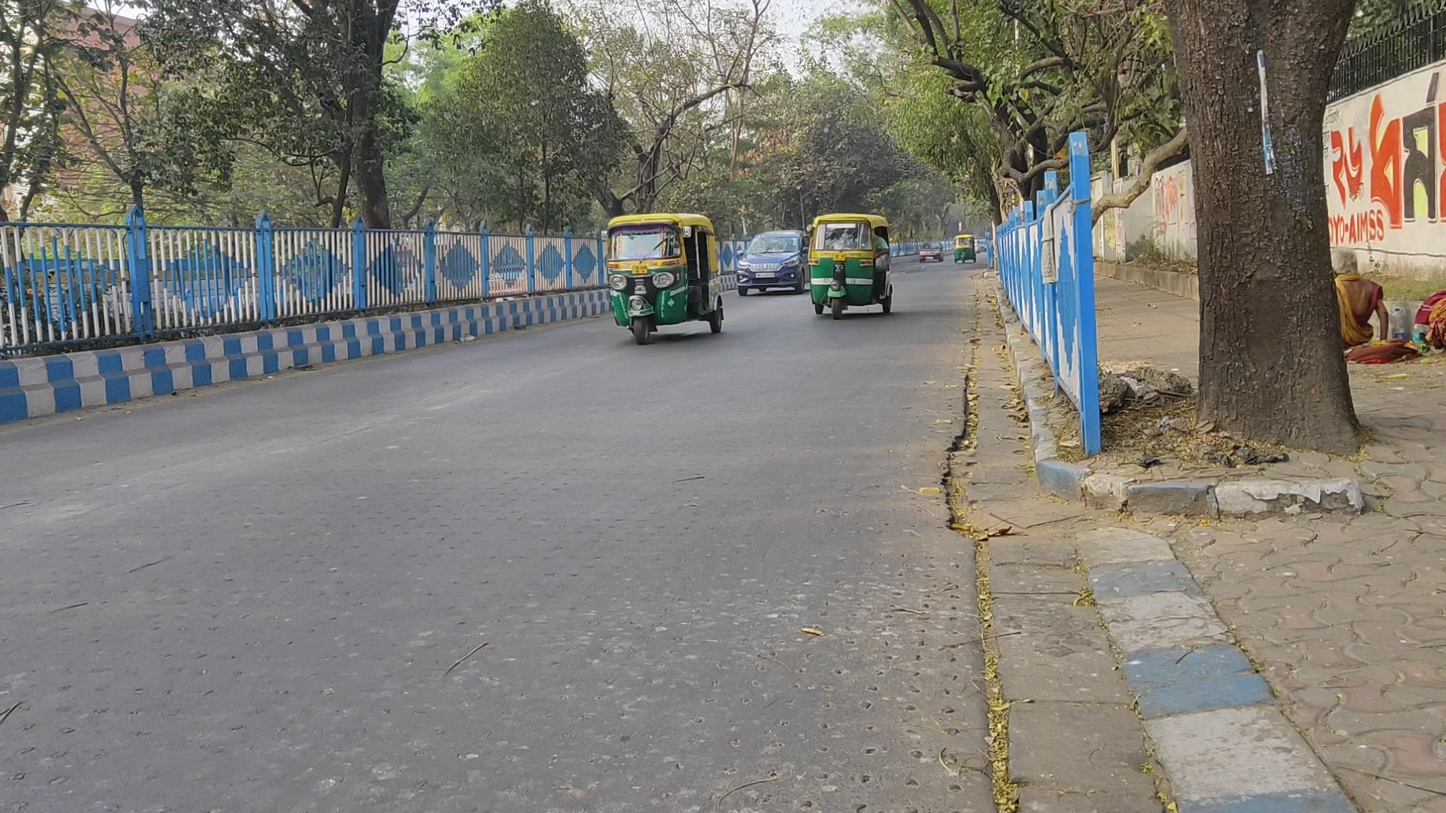Auto: (602, 213, 725, 346), (806, 214, 892, 319), (953, 235, 976, 264)
car: (736, 229, 810, 297), (918, 240, 944, 263)
